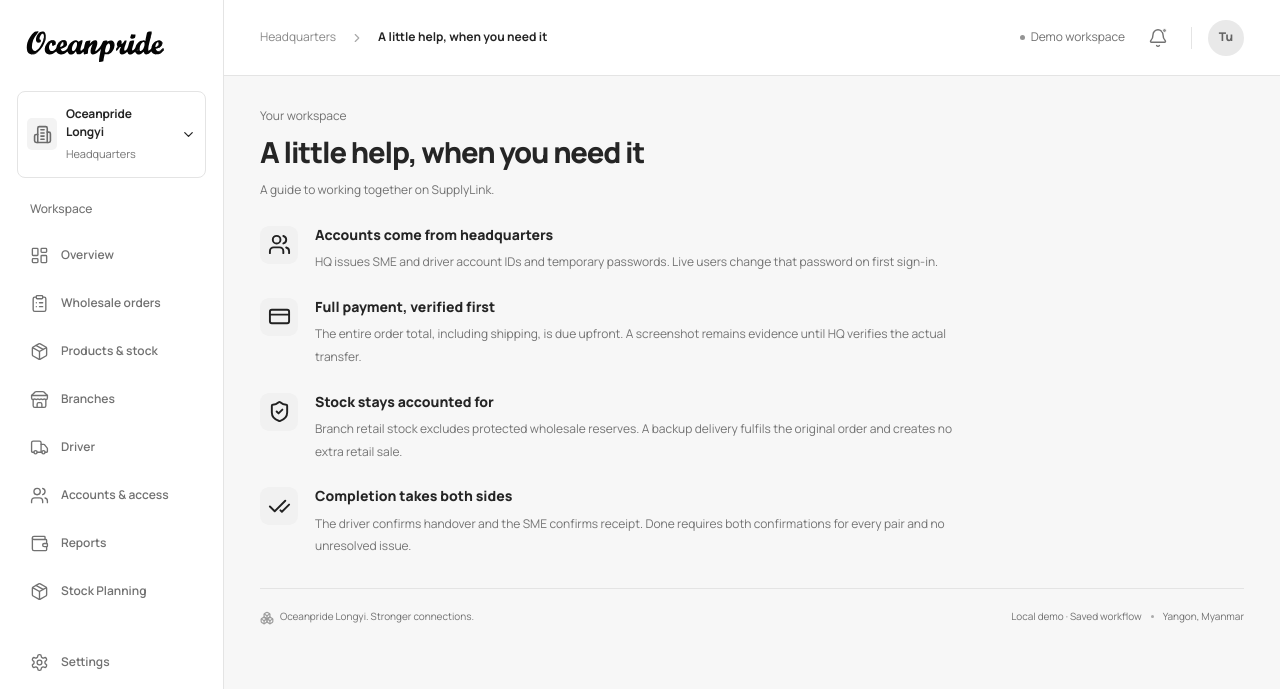
includes automatic refill requests in the HQ bell count and links to the affected branch
Step 1. Click the button named "Notifications, 1 action items" → (1158, 38), box [1141,20,1175,54]
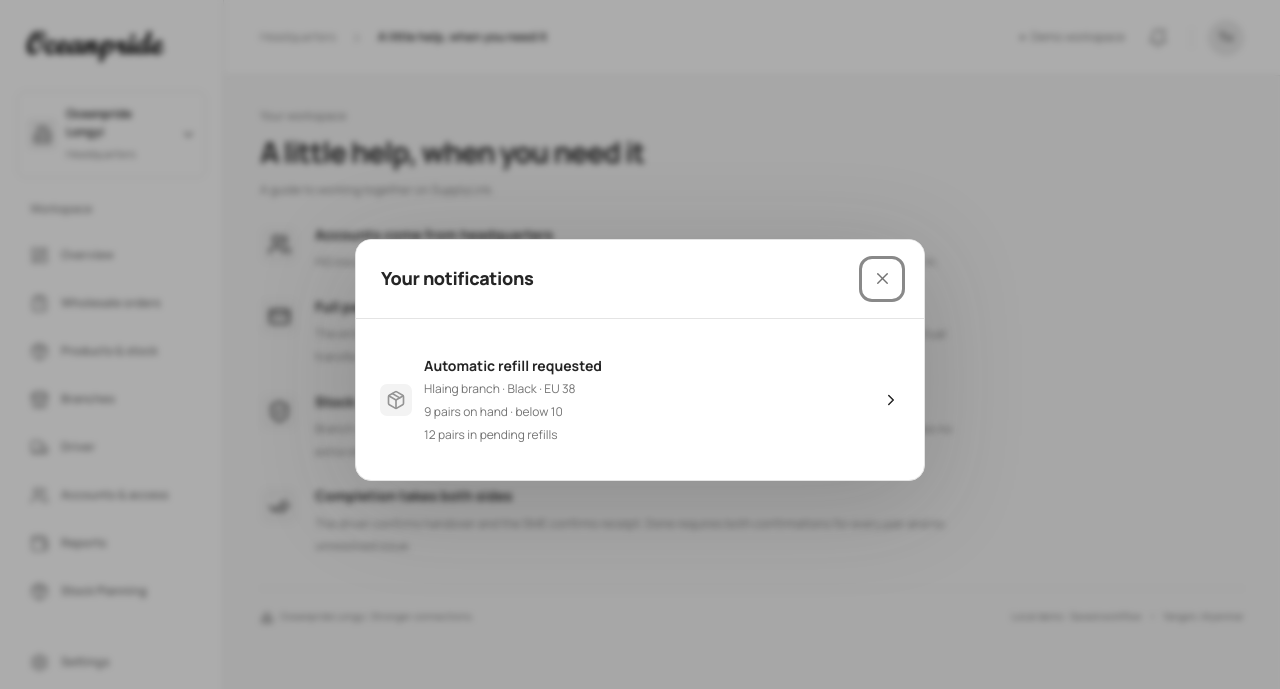
Check: the dialog shows "Automatic refill requested", box [380,343,900,456]
Check: the dialog shows "9 pairs on hand · below 10", box [355,239,925,481]
Check: the dialog shows "12 pairs in pending refills", box [355,239,925,481]
